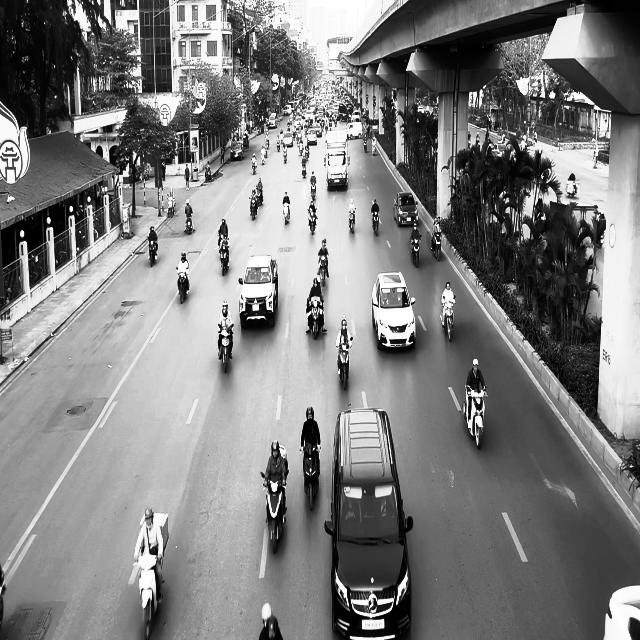car: (324, 403, 413, 640), (372, 271, 416, 350), (238, 254, 278, 328), (603, 584, 640, 639), (393, 192, 418, 226), (230, 140, 244, 160)
motorbike: (260, 469, 288, 554), (462, 384, 488, 449), (300, 443, 320, 510), (306, 295, 325, 340), (217, 324, 234, 374), (336, 337, 352, 389), (440, 296, 456, 342), (176, 267, 190, 303), (317, 252, 328, 286), (147, 236, 158, 266), (219, 243, 229, 276), (411, 235, 421, 267), (431, 232, 442, 261), (308, 208, 317, 235), (371, 211, 380, 235), (282, 199, 290, 225), (249, 197, 258, 220), (348, 208, 356, 233), (167, 195, 175, 217), (185, 213, 193, 234), (301, 154, 307, 178), (310, 179, 316, 200), (205, 166, 212, 182), (363, 136, 368, 152), (251, 161, 257, 174)
truck: (324, 130, 349, 190)
